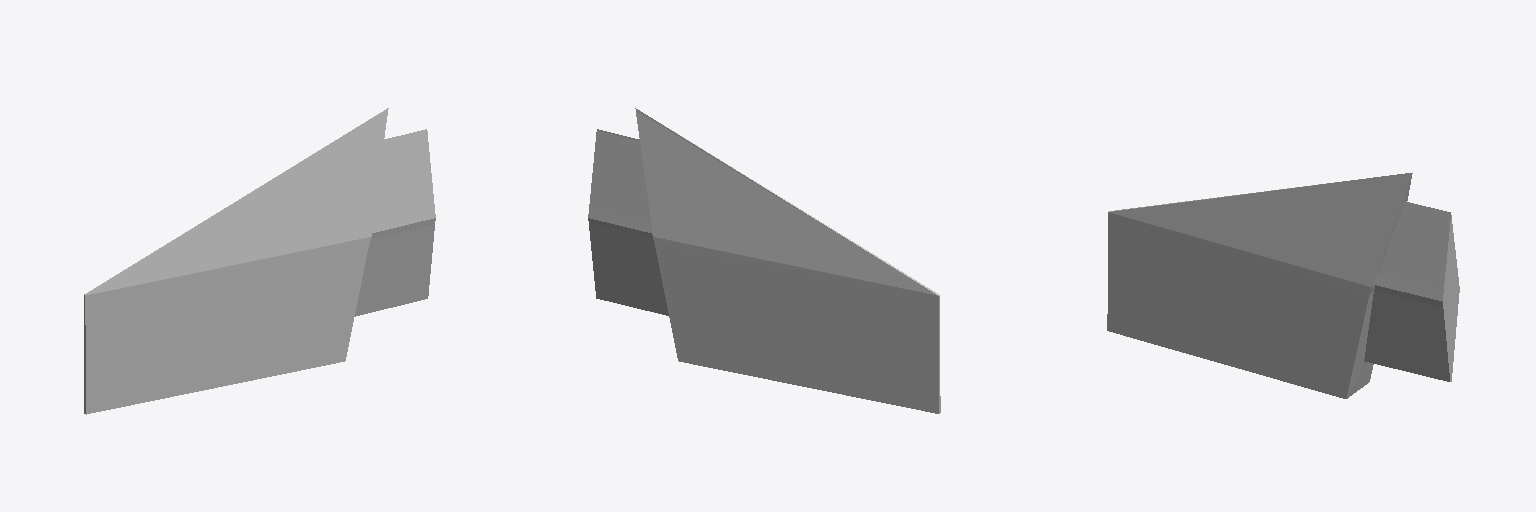
The model's file is fin.obj.
3 renders of one model, left to right at view 1: azimuth 30°, elevation 25°; view 2: azimuth 150°, elevation 25°; view 3: azimuth 330°, elevation 25°, orthographic.
Visible parts, largest first — view 1: fin_(print_4); view 2: fin_(print_4); view 3: fin_(print_4).
Boxes of the visible parts, x1=… form: fin_(print_4): x1=84, y1=108, x2=435, y2=414; fin_(print_4): x1=588, y1=108, x2=940, y2=413; fin_(print_4): x1=1107, y1=173, x2=1459, y2=398.
Bounding box in the file's own units: 44.86 × 29 × 5.33.